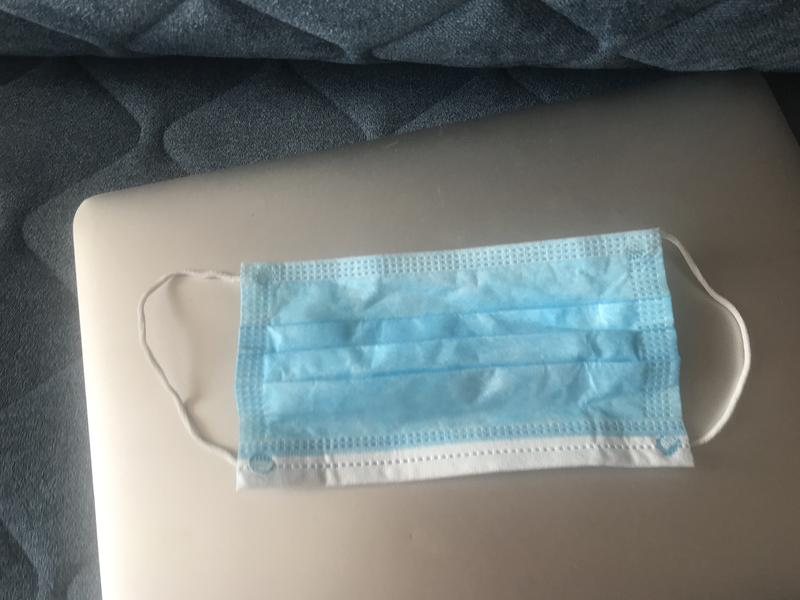medical_mask: (137, 226, 750, 494)
